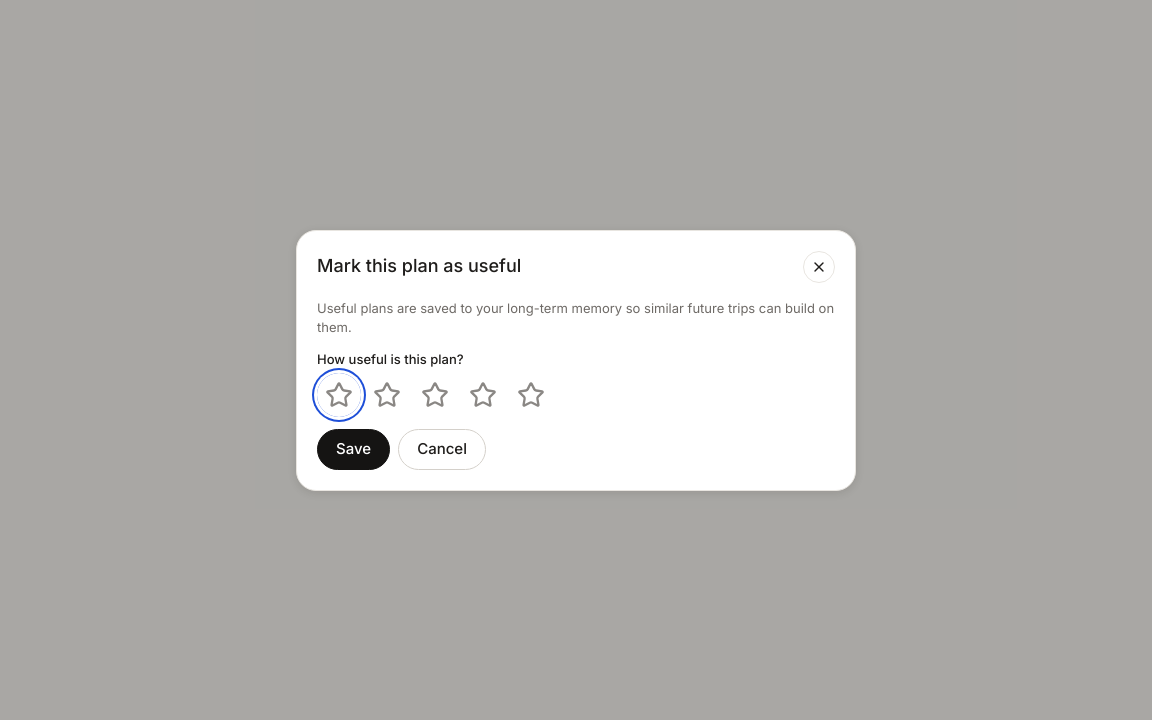
Scenario: RatingDialog › stays open and shows the error when saving fails
This screenshot has width=1152, height=720.
Click the 1st radio button at (339, 395), box [330,386,348,404]
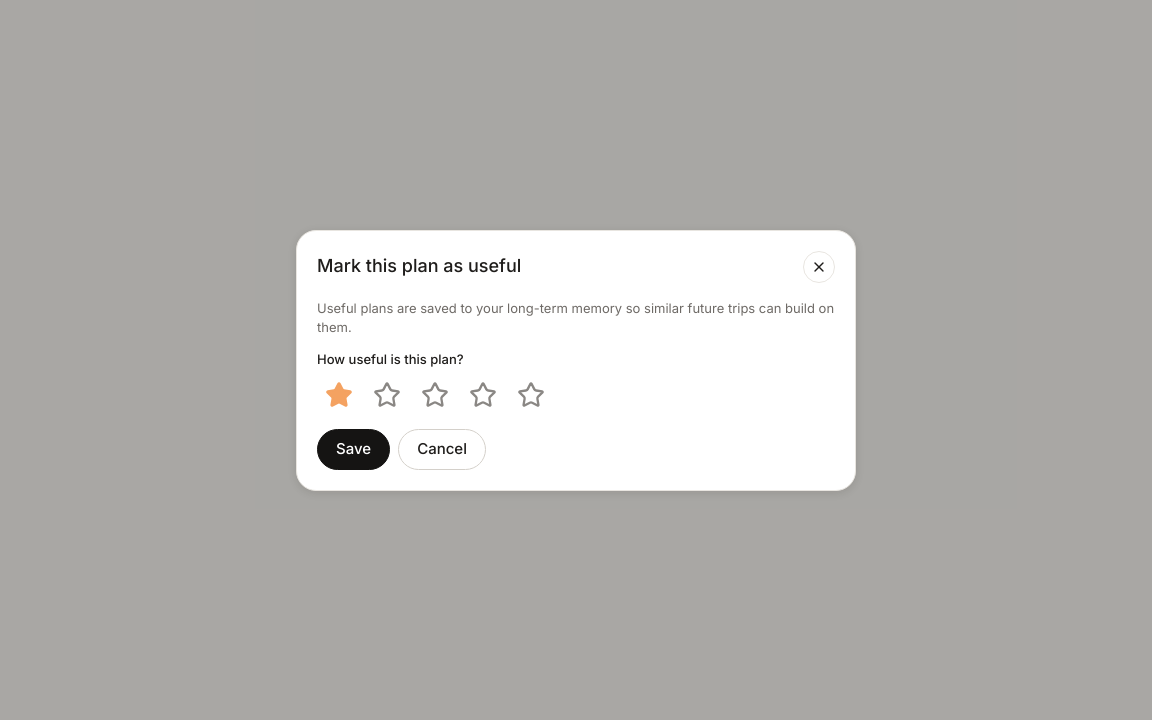
Submit the form, box [317,298,835,470]
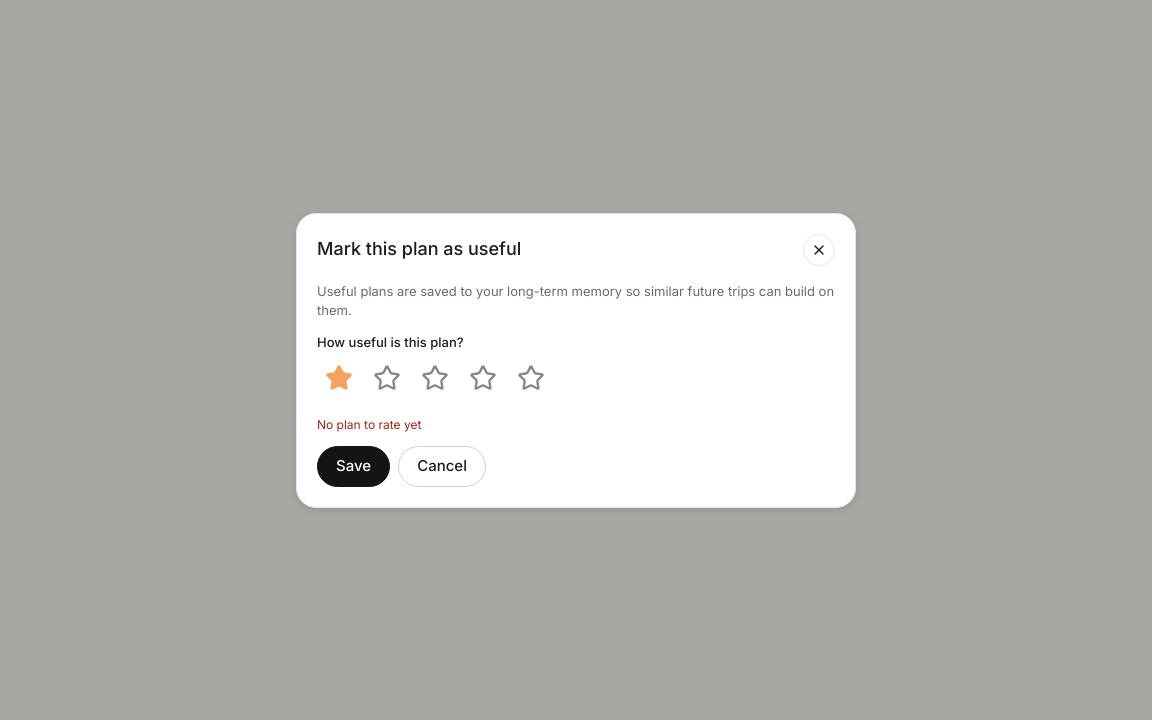
Now the text "No plan to rate yet" is shown, box [317,417,421,432]
